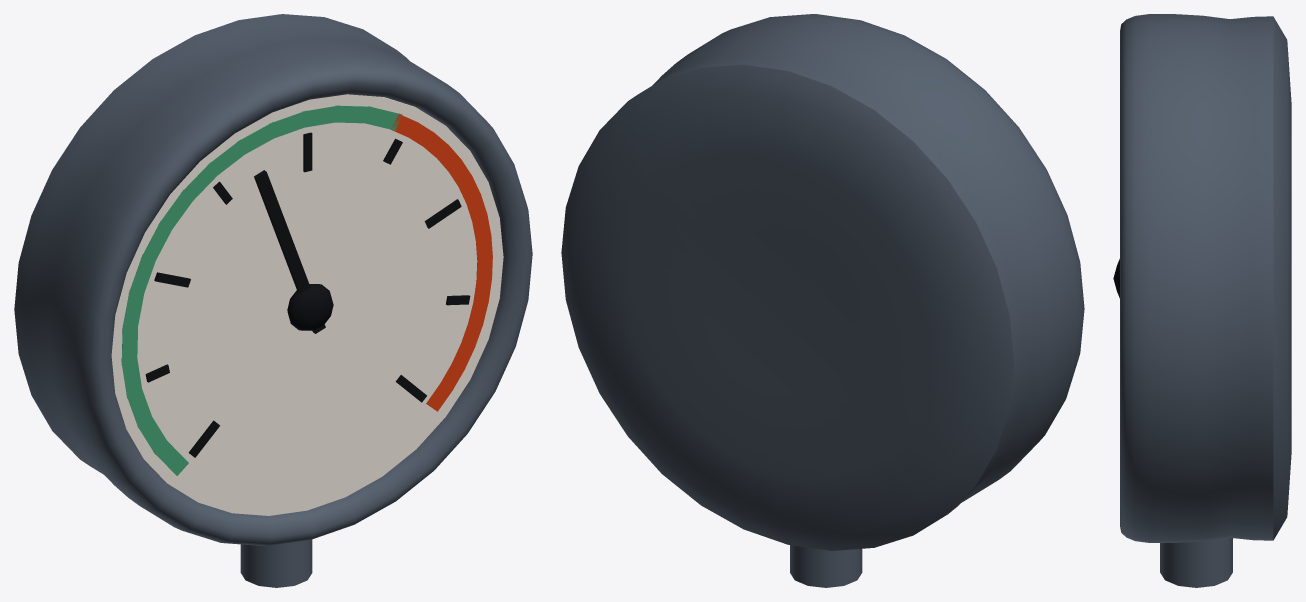
File: gauge.obj
3 views of the same model, side by side, from view 1: azimuth 30°, elevation 25°; view 2: azimuth 150°, elevation 25°; view 3: azimuth 270°, elevation 25° (orthographic).
Parts seen in each view (by area): view 1: pressure-tank_gauge; view 2: pressure-tank_gauge; view 3: pressure-tank_gauge.
Part boxes in pixels (box(x1,y1,x2,y2)): pressure-tank_gauge: box(14, 14, 532, 587); pressure-tank_gauge: box(561, 14, 1084, 587); pressure-tank_gauge: box(1113, 14, 1291, 587).
Size of the model in its own units: 0.204 by 0.227 by 0.0686.
